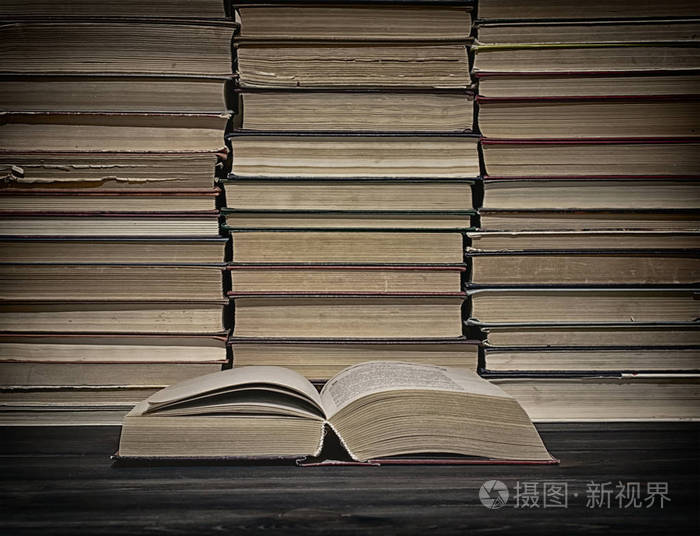book: (102, 356, 560, 471)
